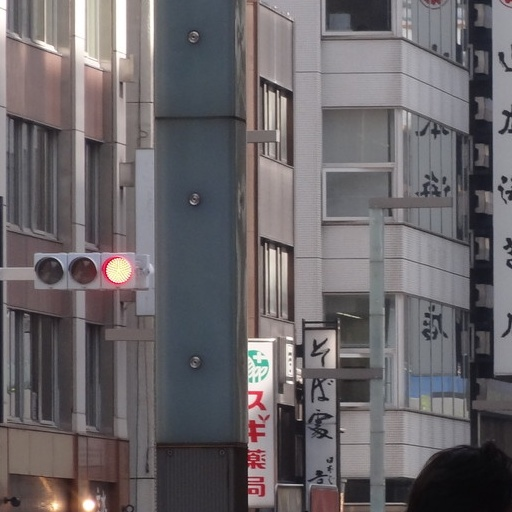Traffic_Signal_Red: (35, 250, 139, 288)
